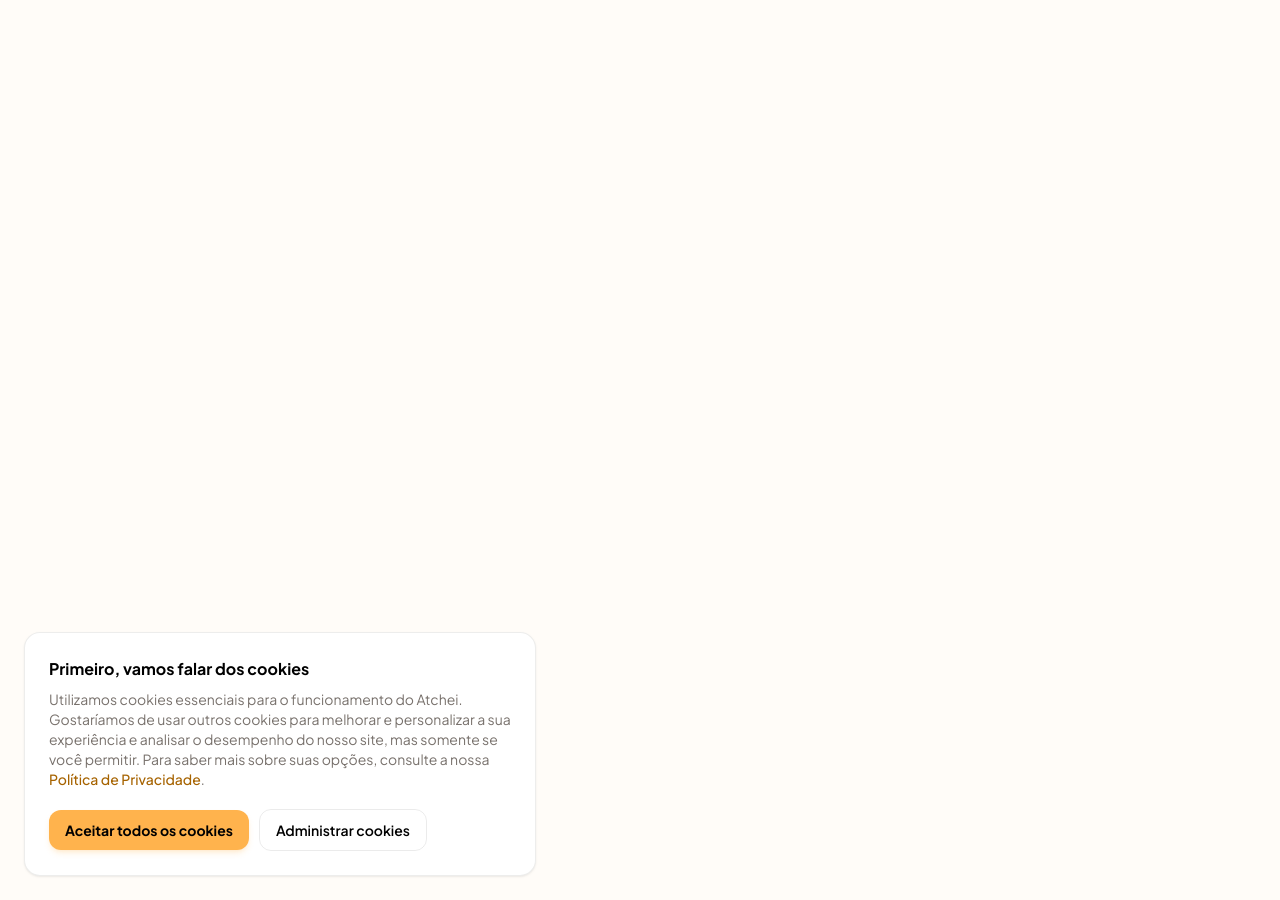
it: CookieBanner Component › toggles analytics and saves preferences accordingly
This screenshot has width=1280, height=900.
Later steps or results of the test are not shown.
Click the button "Administrar cookies". click: (343, 830)
box: x1=259 y1=809 x2=427 y2=851
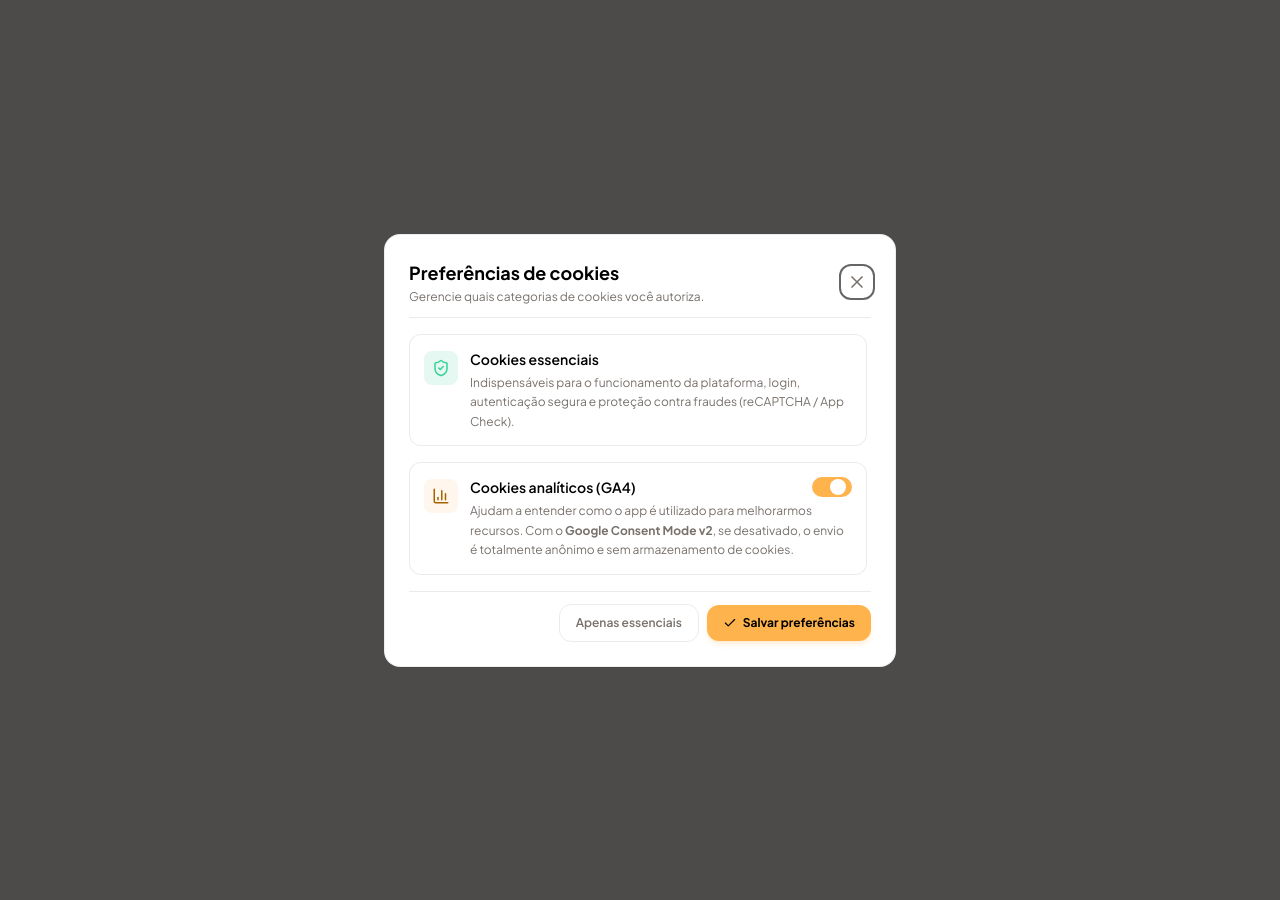
Result: the checkbox named "permitir cookies analíticos" is checked
Desmarca analytics
Click the checkbox named "permitir cookies analíticos". click: (832, 487)
box: x1=812 y1=477 x2=852 y2=497
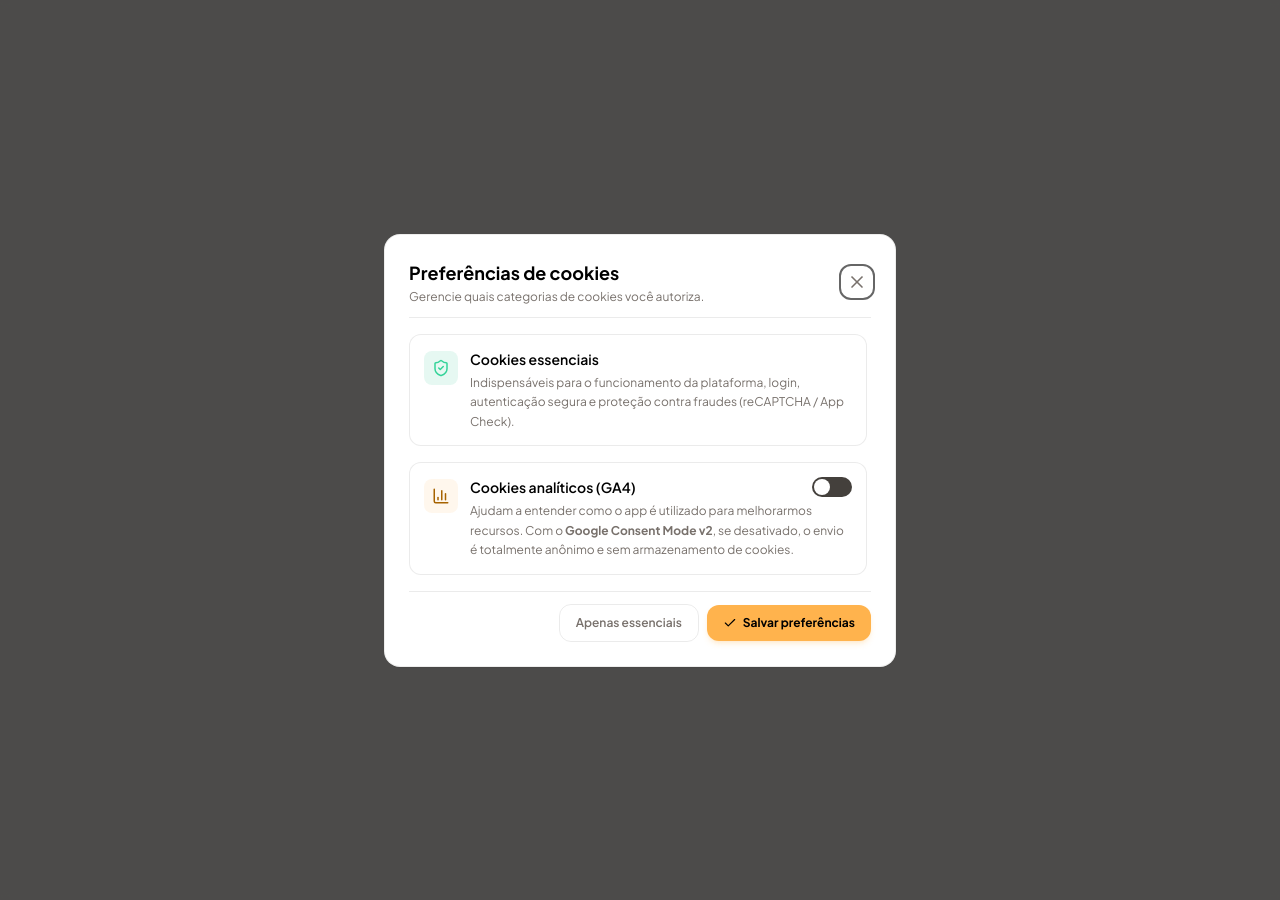
Result: the checkbox named "permitir cookies analíticos" is not checked at x1=812 y1=477 x2=852 y2=497
